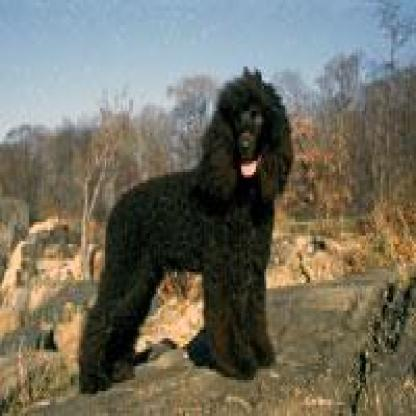Irish_water_spaniel: (77, 64, 293, 396)
